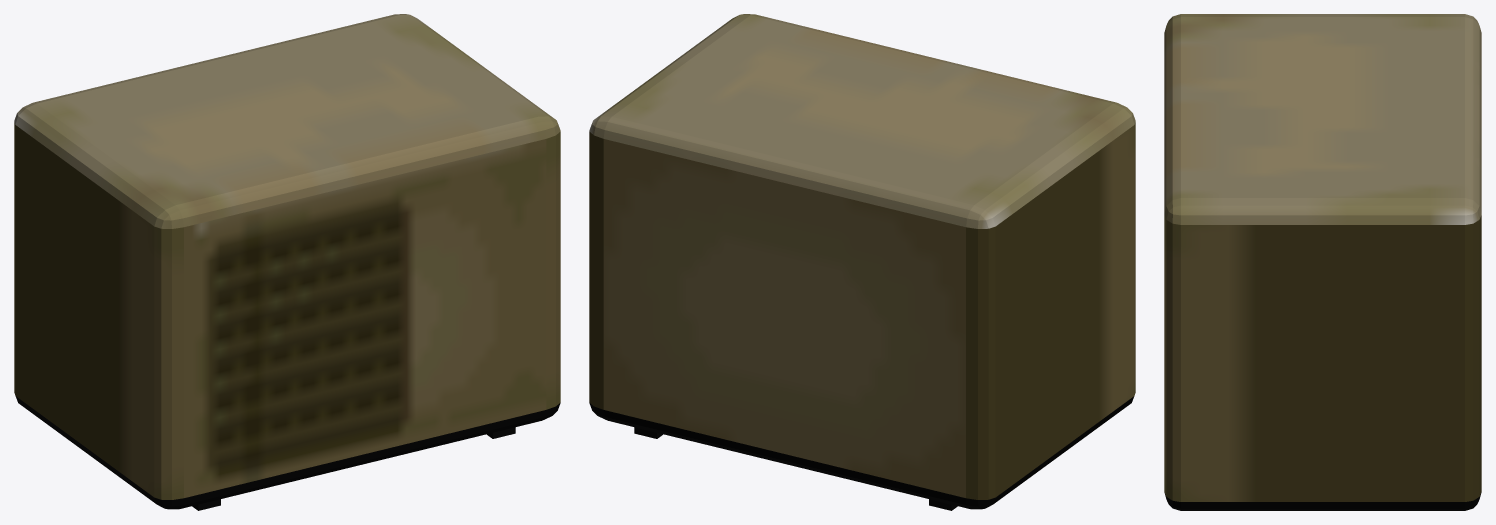
File: Ventilador2.obj
3 views of the same model, side by side, from view 1: azimuth 30°, elevation 25°; view 2: azimuth 150°, elevation 25°; view 3: azimuth 270°, elevation 25° (orthographic). The views are drawn at different scales.
Parts seen in each view (by area): view 1: Cube; view 2: Cube; view 3: Cube.
Boxes of the visible parts, box(x1,y1,x2,y2) form: Cube: box(14, 14, 560, 510); Cube: box(589, 14, 1135, 510); Cube: box(1164, 14, 1481, 510).
Bounding box in the file's own units: 1.09 × 0.7992 × 0.7228.
Materials: 1 (1 with a texture image).
